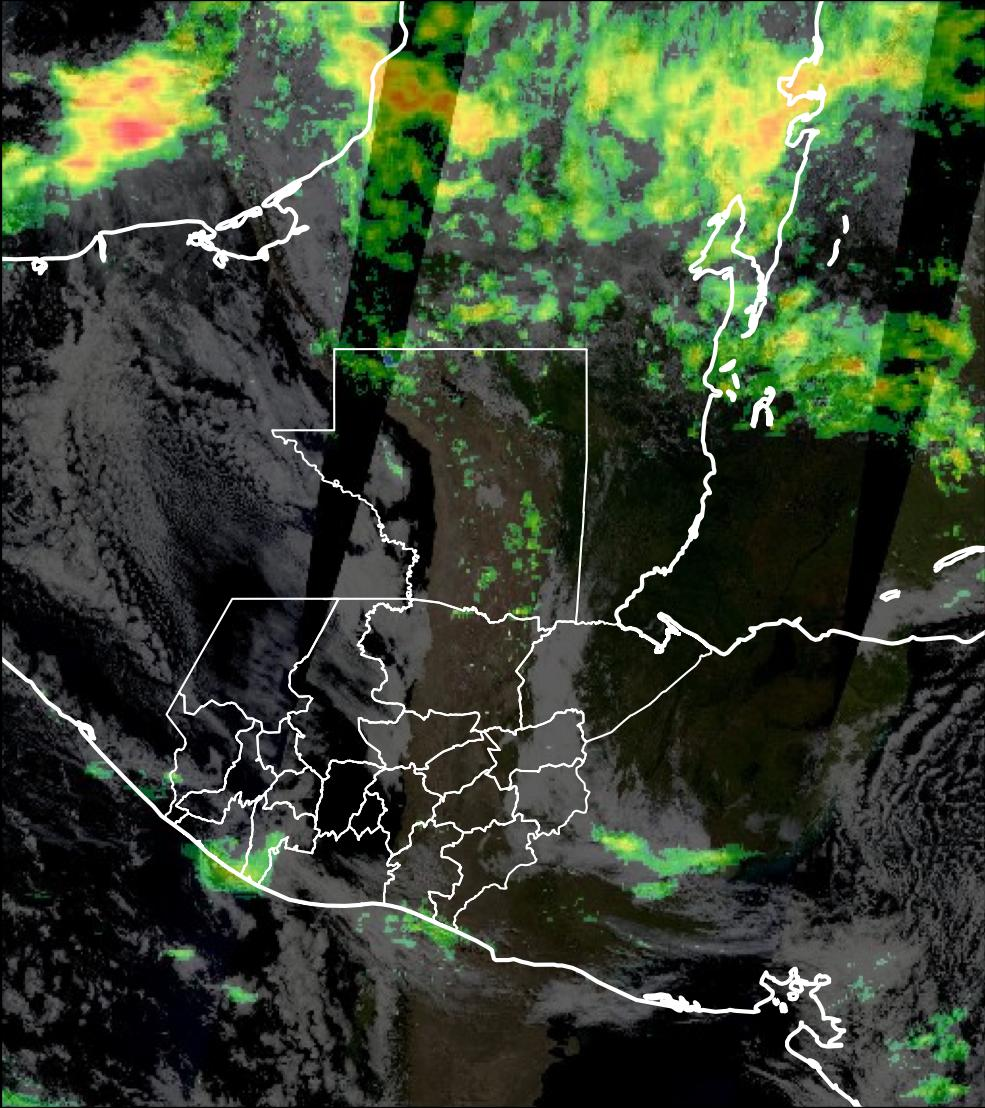precipitacion: (54, 49, 184, 187)
